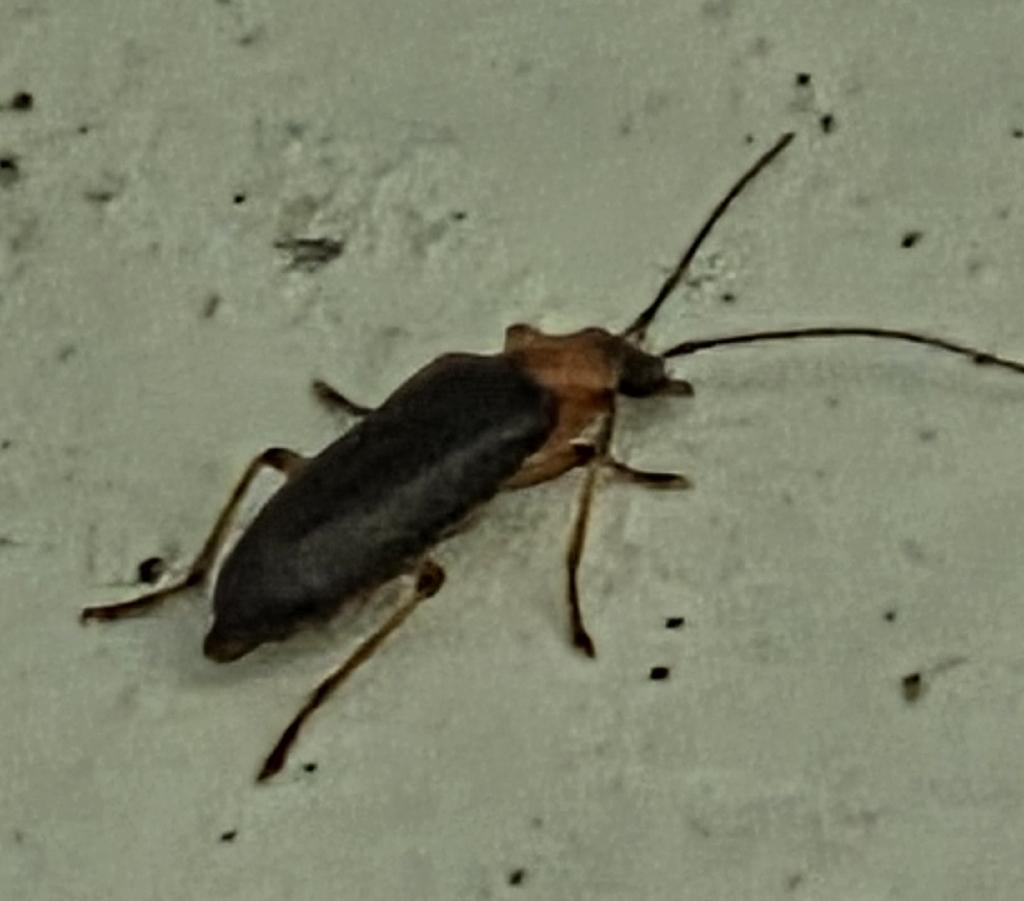blister_beetle: (62, 73, 1024, 843)
